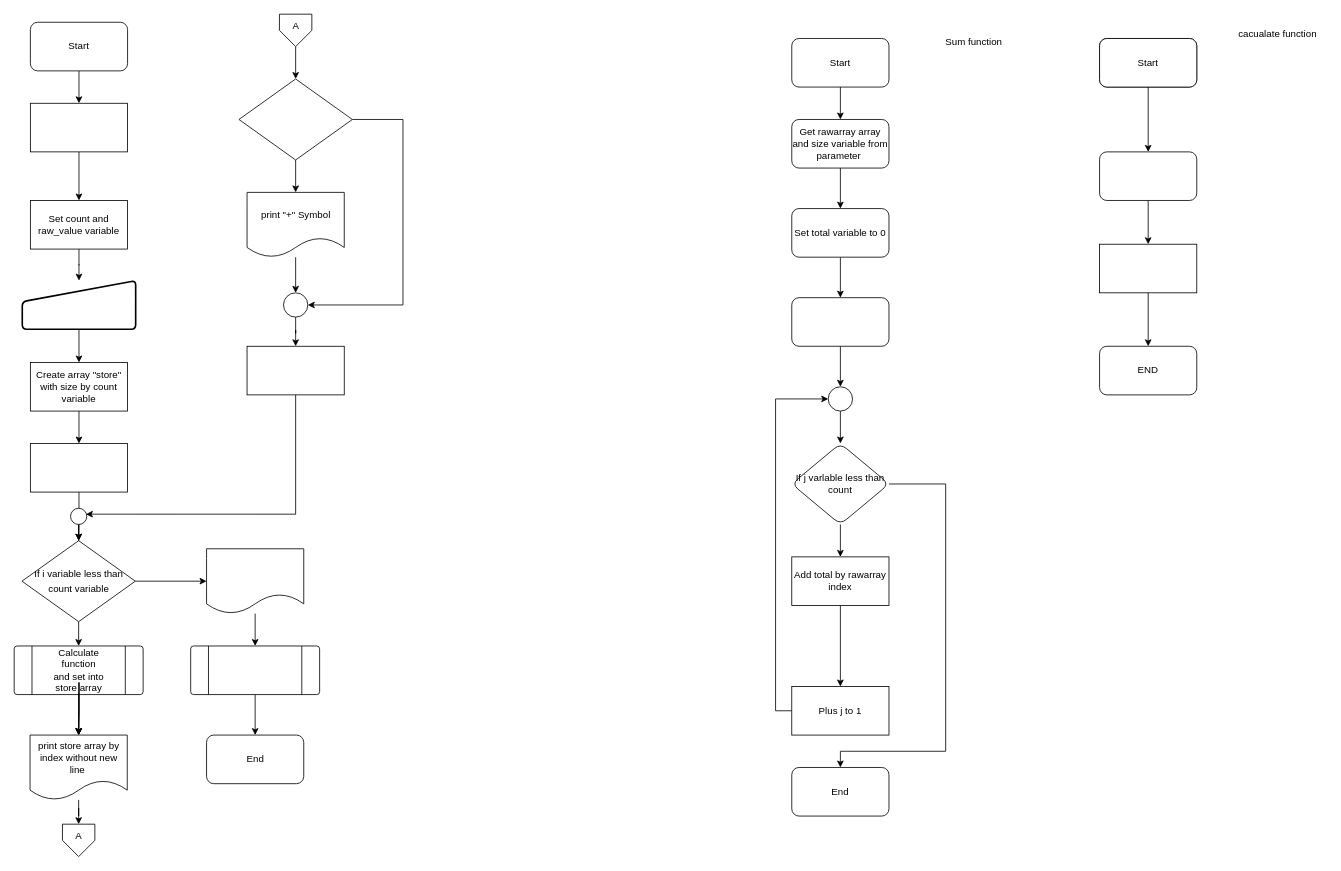
Image size: 1341x871. Some labels were removed from this diagram. The centre of each missing label's shape, as x and y in pixels:
add raw multiply to 10 then minus to 1: pixel 1148 268
Get raw array form parameter: pixel 1148 175
If I variable less than count - 1: pixel 295 119
Init "setlocate" to LC_ALL: pixel 79 127
Input into "count" variable: pixel 78 304
Plus I += 1: pixel 295 370
print "=" symbol: pixel 255 581
Set i to 0: pixel 79 467
Set j variable to 0: pixel 840 321
Sum total: pixel 255 670
